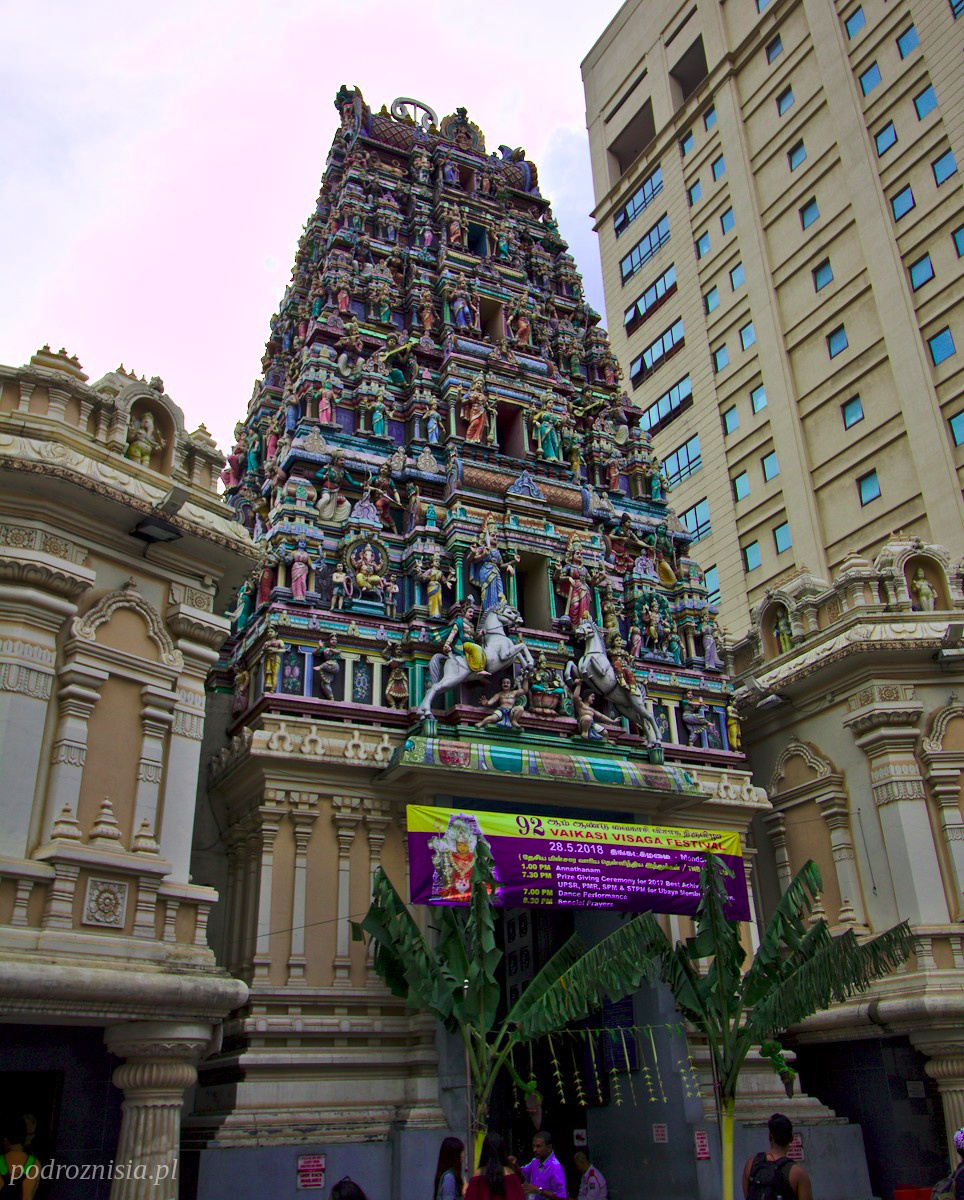Hindu Temple: (186, 68, 687, 1072)
